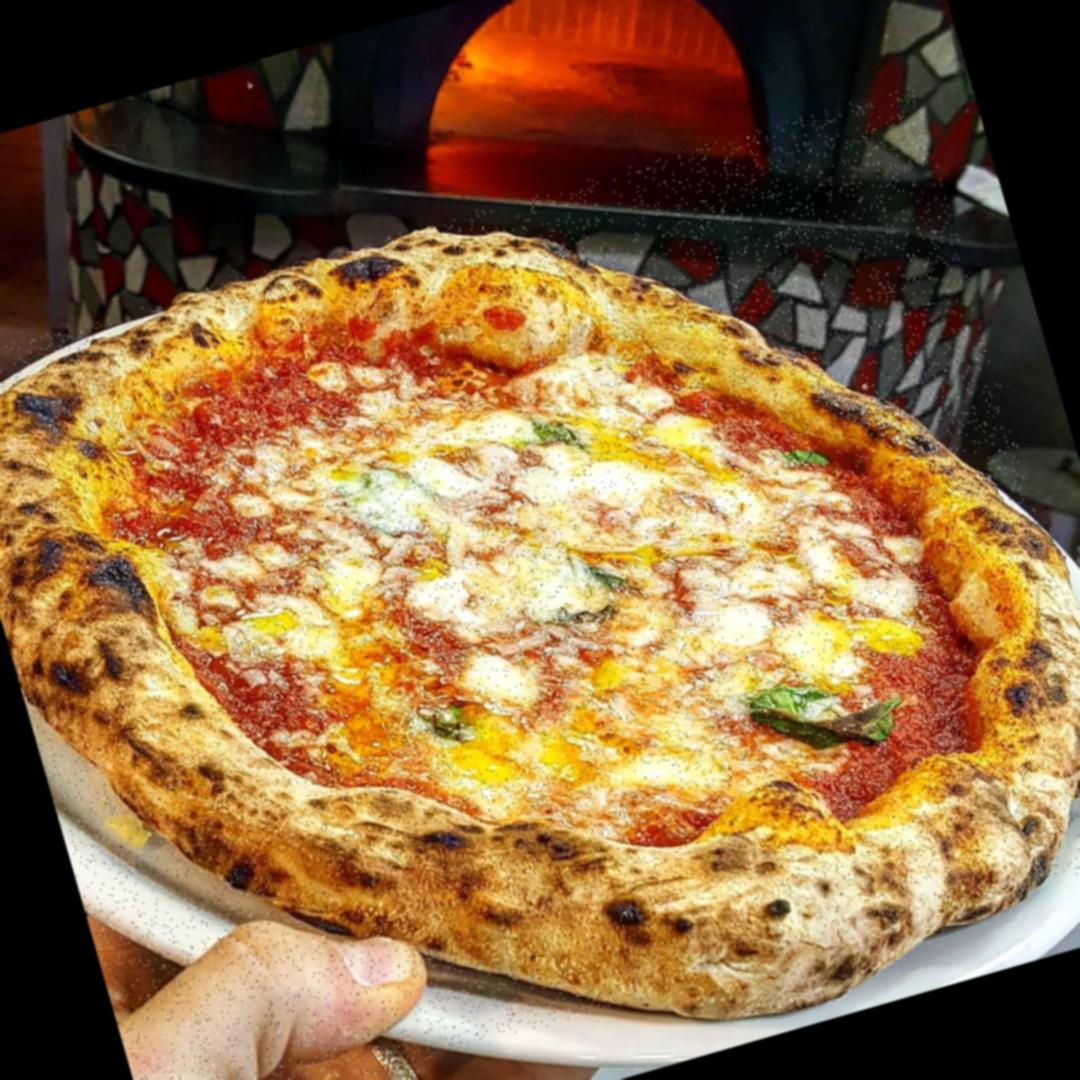Basil: (744, 645, 922, 788), (544, 592, 622, 642), (418, 692, 472, 752), (780, 435, 838, 480), (586, 554, 635, 603), (532, 410, 586, 454)
Cheese: (402, 434, 558, 622), (558, 454, 658, 552), (708, 594, 784, 659), (468, 649, 530, 711), (793, 614, 850, 664), (866, 614, 912, 656)
Pizza: (0, 84, 1080, 1080)
